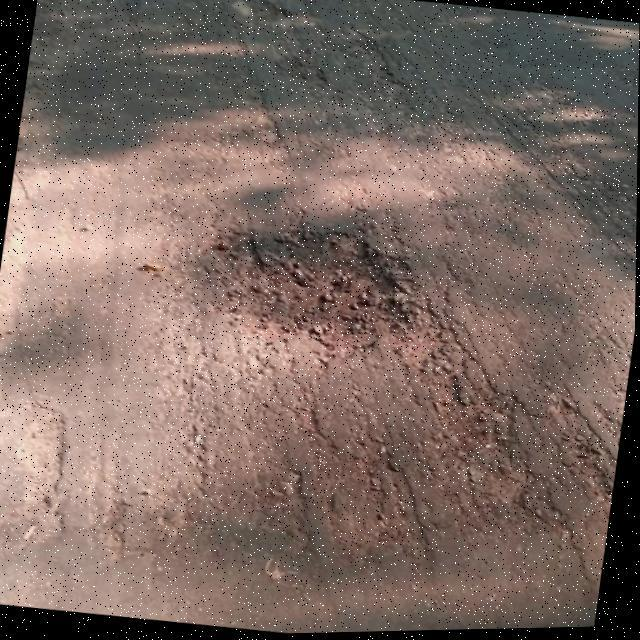pothole: (204, 209, 432, 368)
